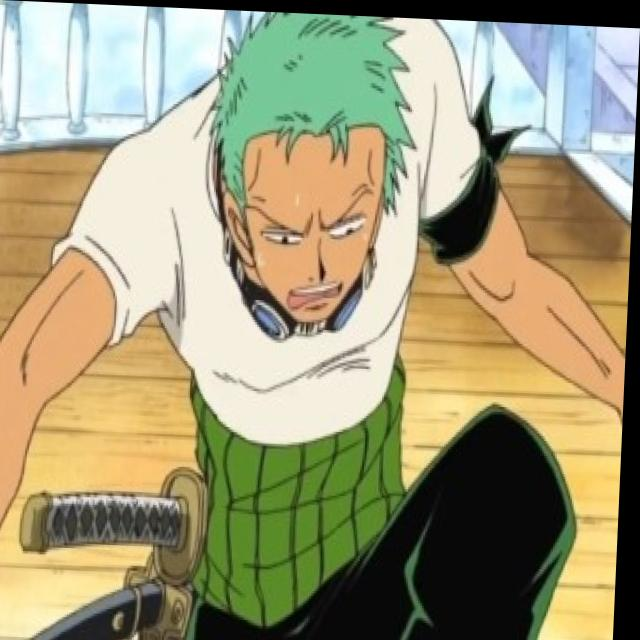Zoro: (201, 11, 425, 344)
